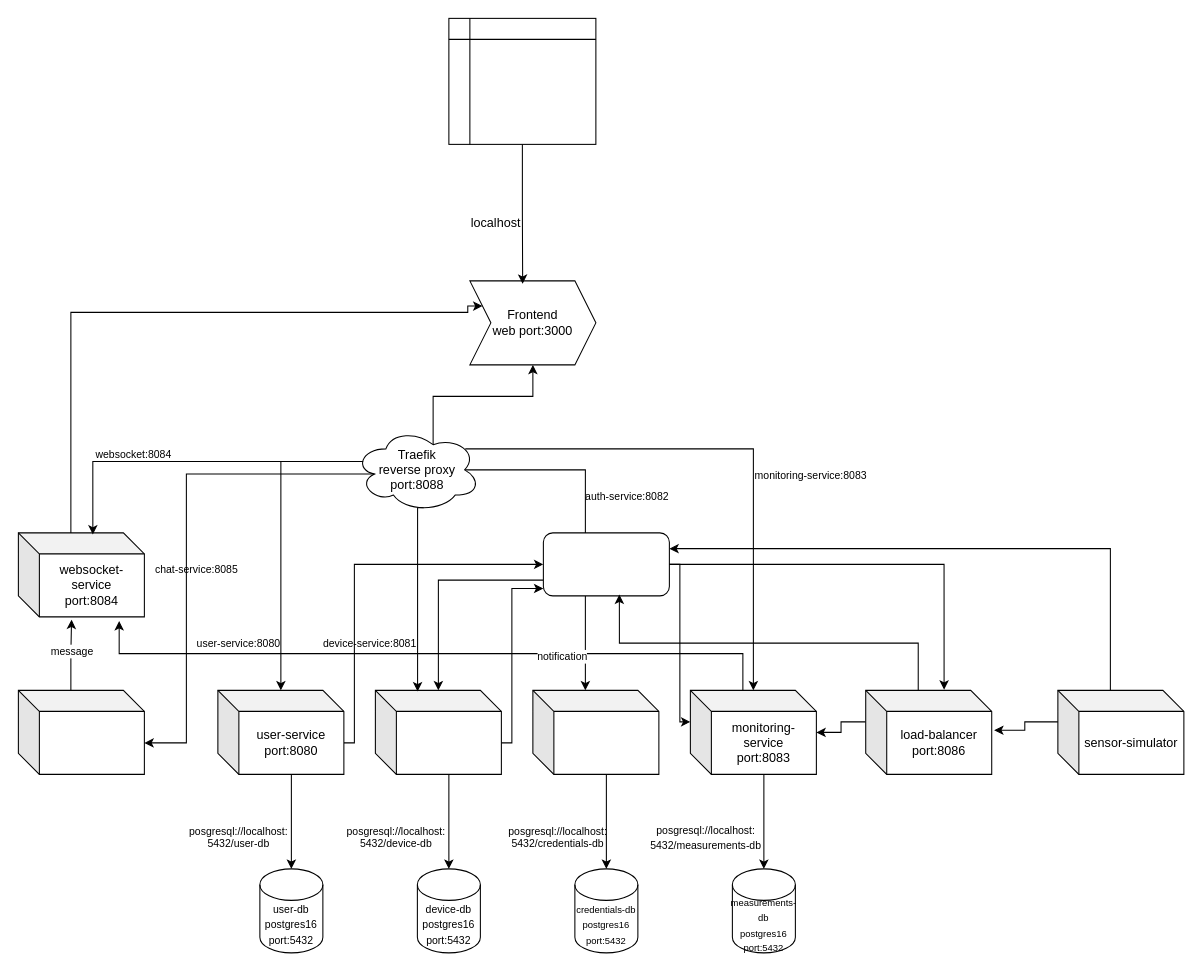
This 1202x972 diagram has some shape labels left out. Each missing label, with the centre of its shape:
"auth-service port:8082" belongs at [595,731].
"chat-service port:8085" belongs at [80,731].
"device-service port:8081" belongs at [437,731].
"External User" belongs at [522,80].
"RabbitMQ port:15672" belongs at [605,564].
